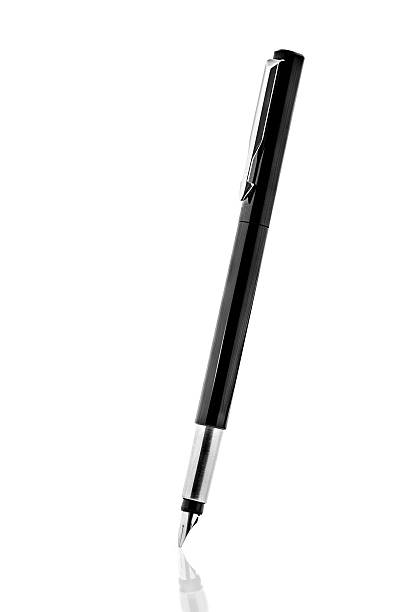pen: (155, 42, 318, 558)
